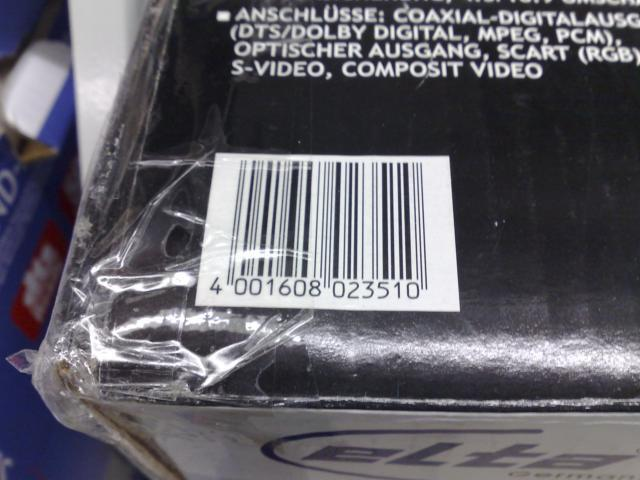Barcode: (192, 152, 461, 311)
